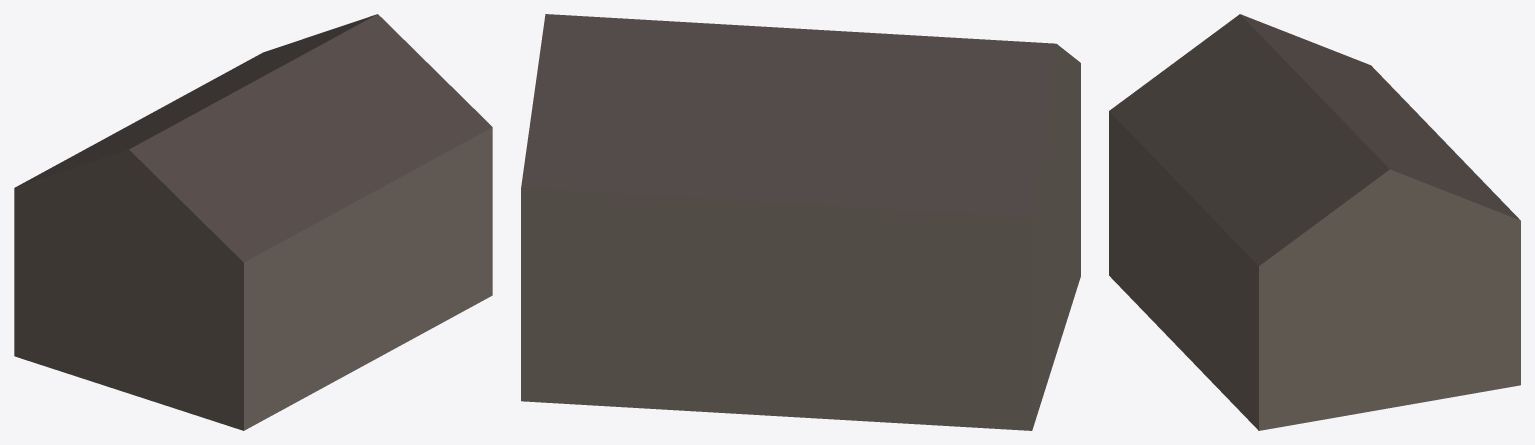
3 renders of one model, left to right at view 1: azimuth 30°, elevation 25°; view 2: azimuth 150°, elevation 25°; view 3: azimuth 270°, elevation 25°, orthographic. The views are drawn at different scales.
Parts seen in each view (by area): view 1: HP-w369317477; view 2: HP-w369317477; view 3: HP-w369317477.
Part boxes in pixels (left/top/right/bottom): HP-w369317477: left=14, top=14, right=492, bottom=430; HP-w369317477: left=521, top=14, right=1080, bottom=430; HP-w369317477: left=1109, top=14, right=1520, bottom=430.
Bounding box in the file's own units: 23.57 × 13.05 × 20.41.
